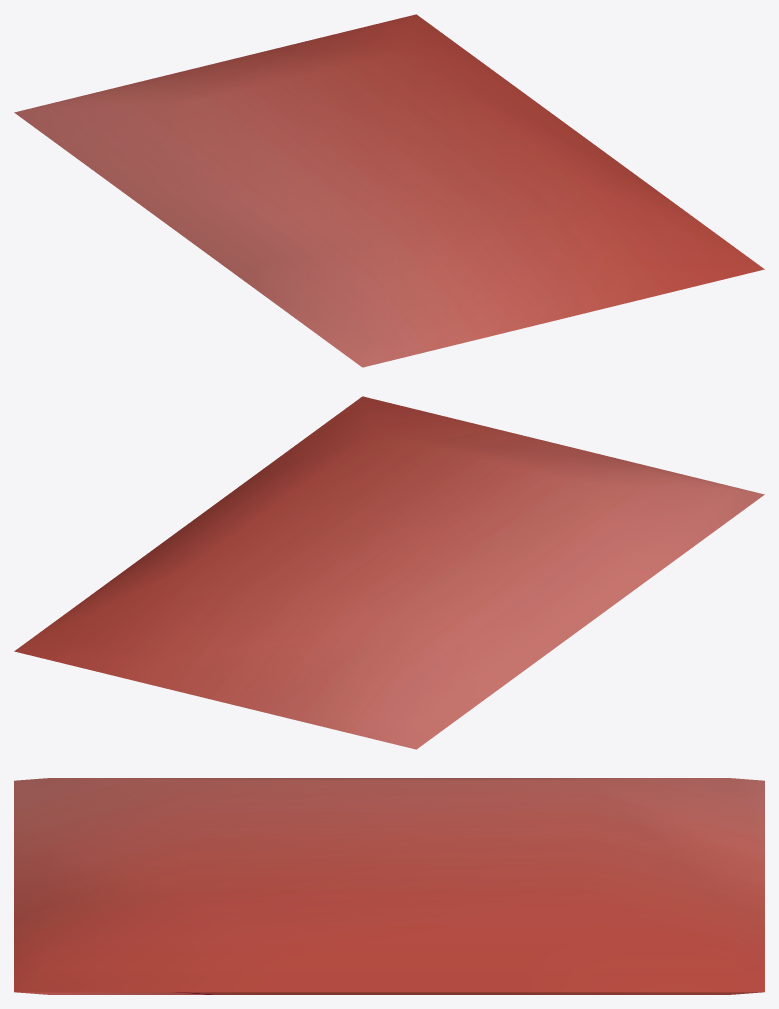
The model's file is gift4.glb.
The picture shows the model from 3 angles, top to bottom: view 1: azimuth 30°, elevation 25°; view 2: azimuth 150°, elevation 25°; view 3: azimuth 270°, elevation 25°; orthographic projection. The views are drawn at different scales.
Parts seen in each view (by area): view 1: hb; view 2: hb; view 3: hb.
Boxes of the visible parts, x1,y1,x2,y2 form: hb: [14, 14, 764, 367]; hb: [14, 396, 764, 749]; hb: [14, 778, 764, 994].
Size of the model in its own units: 0.6 by 0.13 by 0.9.
1 material, 1 textured.
